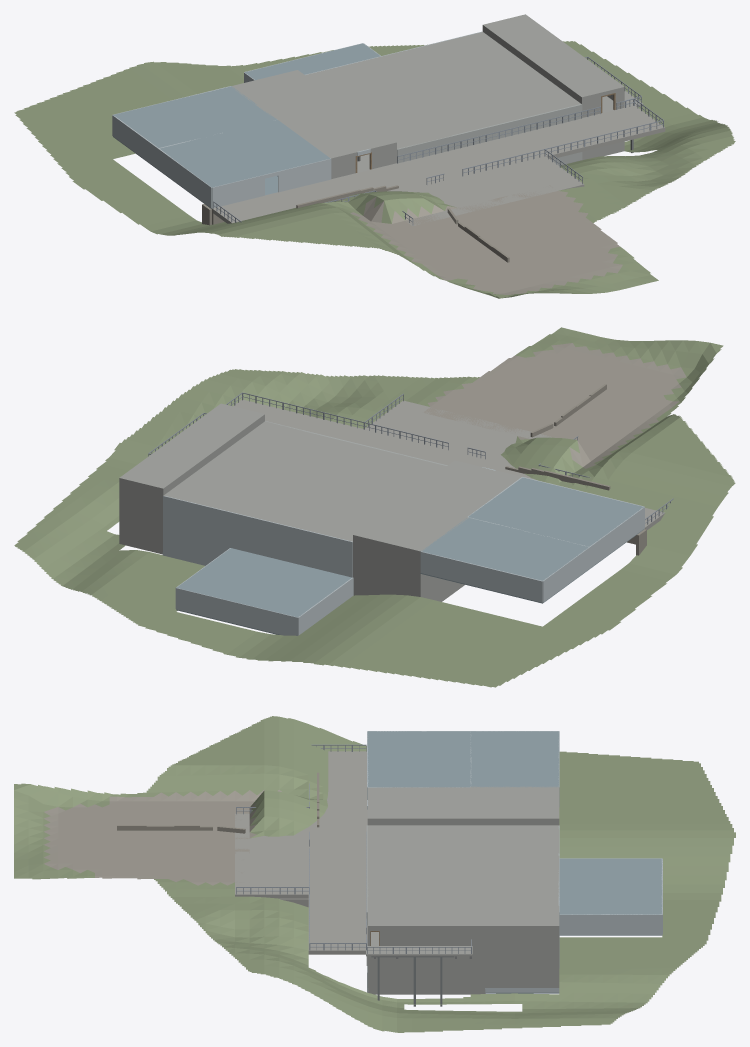
File: authored-service-bay.glb
3 renders of one model, top to bottom at view 1: azimuth 30°, elevation 25°; view 2: azimuth 150°, elevation 25°; view 3: azimuth 270°, elevation 25°, orthographic. The views are drawn at different scales.
Parts seen in each view (by area): view 1: WLD-09 saved contained hall terrain, WLD-09 turbine enclosed roof region0, WLD-09 complete structural crest deck region0, WLD-09 west hall enclosed roof region0, Ceiling cap control, Ceiling cap office, WLD-09 complete bridge arrival forecourt region0, WLD-09 east hall enclosed roof region0, WLD-09 restart shared turbine workshop north end pier region, Ceiling cap plant, Wall control W, Flat route shell Wall control S.001 (+6 smaller); view 2: WLD-09 saved contained hall terrain, WLD-09 turbine enclosed roof region0, WLD-09 west hall enclosed roof region0, Ceiling cap plant, Ceiling cap control, Flat route shell Wall turbine N.001, Ceiling cap office, WLD-09 complete bridge arrival forecourt region0, WLD-09 east hall enclosed roof region0, WLD-09 complete structural crest deck region0, WLD-09 west-hall N end region0, WLD-09 hall N end region0 (+7 smaller); view 3: WLD-09 saved contained hall terrain, WLD-09 turbine enclosed roof region0, WLD-09 complete structural crest deck region0, WLD-09 hall E pier0 region0, WLD-09 west hall enclosed roof region0, Ceiling cap control, Ceiling cap plant, Ceiling cap office, WLD-09 complete bridge arrival forecourt region0, WLD-09 east hall enclosed roof region0, Wall plant E, WLD-09 retained external service catwalk region0 (+3 smaller).
Part boxes in pixels (x1=…): WLD-09 saved contained hall terrain: x1=14, y1=41, x2=735, y2=298; WLD-09 turbine enclosed roof region0: x1=305, y1=32, x2=580, y2=148; WLD-09 complete structural crest deck region0: x1=212, y1=105, x2=665, y2=223; WLD-09 west hall enclosed roof region0: x1=232, y1=70, x2=396, y2=160; Ceiling cap control: x1=160, y1=119, x2=330, y2=187; Ceiling cap office: x1=113, y1=86, x2=276, y2=147; WLD-09 complete bridge arrival forecourt region0: x1=403, y1=156, x2=584, y2=225; WLD-09 east hall enclosed roof region0: x1=482, y1=14, x2=624, y2=99; WLD-09 restart shared turbine workshop north end pier region: x1=462, y1=104, x2=582, y2=165; Ceiling cap plant: x1=245, y1=43, x2=380, y2=80; Wall control W: x1=158, y1=148, x2=211, y2=208; Flat route shell Wall control S.001: x1=277, y1=158, x2=331, y2=192; WLD-09 saved contained hall terrain: x1=14, y1=327, x2=735, y2=687; WLD-09 turbine enclosed roof region0: x1=163, y1=421, x2=446, y2=541; WLD-09 west hall enclosed roof region0: x1=353, y1=460, x2=519, y2=553; Ceiling cap plant: x1=176, y1=548, x2=351, y2=617; Ceiling cap control: x1=468, y1=477, x2=643, y2=546; Flat route shell Wall turbine N.001: x1=163, y1=496, x2=286, y2=563; Ceiling cap office: x1=421, y1=517, x2=588, y2=580; WLD-09 complete bridge arrival forecourt region0: x1=365, y1=400, x2=554, y2=464; WLD-09 east hall enclosed roof region0: x1=119, y1=403, x2=264, y2=490; WLD-09 complete structural crest deck region0: x1=233, y1=399, x2=664, y2=529; WLD-09 west-hall N end region0: x1=353, y1=535, x2=421, y2=596; WLD-09 hall N end region0: x1=119, y1=478, x2=164, y2=552; WLD-09 saved contained hall terrain: x1=14, y1=716, x2=735, y2=1032; WLD-09 turbine enclosed roof region0: x1=367, y1=825, x2=559, y2=905; WLD-09 complete structural crest deck region0: x1=308, y1=751, x2=367, y2=954; WLD-09 hall E pier0 region0: x1=379, y1=925, x2=559, y2=985; WLD-09 west hall enclosed roof region0: x1=367, y1=787, x2=559, y2=820; Ceiling cap control: x1=367, y1=731, x2=470, y2=787; Ceiling cap plant: x1=559, y1=858, x2=662, y2=914; Ceiling cap office: x1=470, y1=731, x2=559, y2=787; WLD-09 complete bridge arrival forecourt region0: x1=235, y1=813, x2=308, y2=898; WLD-09 east hall enclosed roof region0: x1=367, y1=905, x2=559, y2=927; Wall plant E: x1=559, y1=914, x2=662, y2=934; WLD-09 retained external service catwalk region0: x1=366, y1=946, x2=472, y2=956.
Bounding box in the file's own units: 85 × 13.4 × 98.
Materials: 38 (23 with a texture image).
